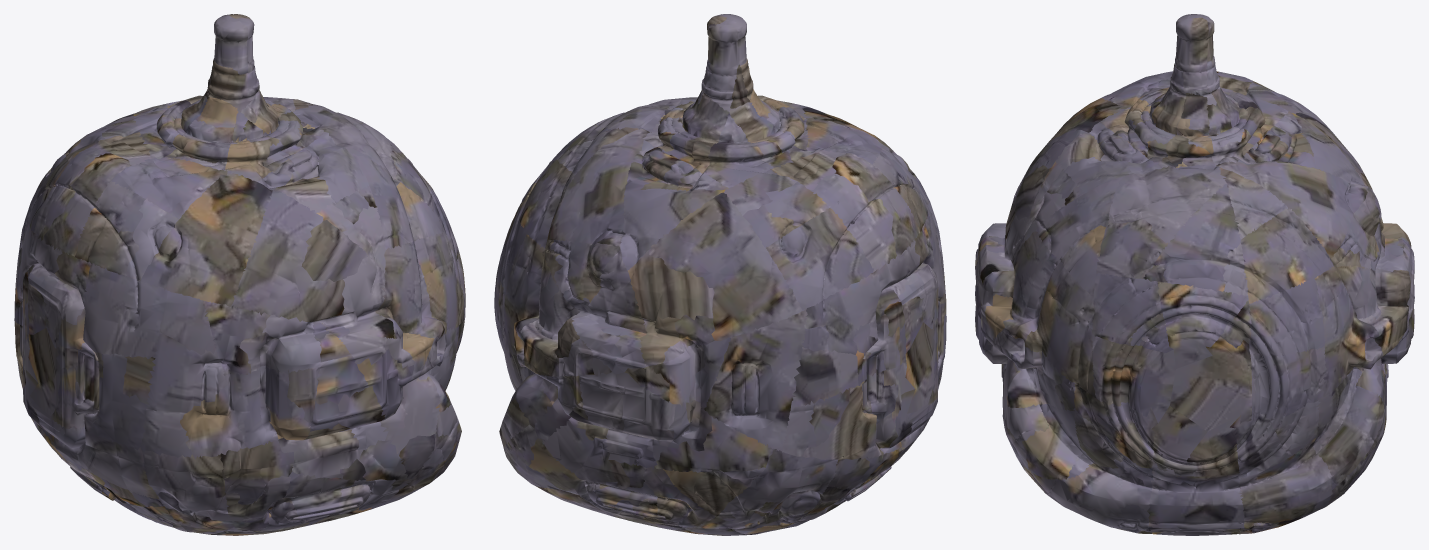
The model's file is arc-lantern-lean.glb.
3 renders of one model, left to right at view 1: azimuth 30°, elevation 25°; view 2: azimuth 150°, elevation 25°; view 3: azimuth 270°, elevation 25°, orthographic. The views are drawn at different scales.
Parts seen in each view (by area): view 1: chassis; view 2: chassis; view 3: chassis.
Boxes of the visible parts, left/top/right/bottom form: chassis: left=14, top=14, right=465, bottom=535; chassis: left=494, top=14, right=946, bottom=535; chassis: left=975, top=14, right=1414, bottom=535.
Bounding box in the file's own units: 0.9609 × 1.15 × 0.9897.
1 material, 1 textured.
